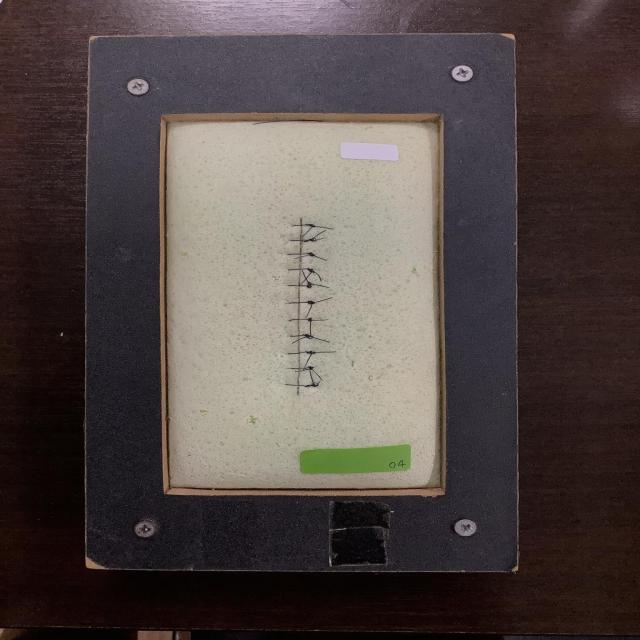knot: (302, 381, 321, 389), (300, 332, 316, 341), (301, 236, 319, 244), (305, 266, 317, 275), (303, 349, 318, 356), (303, 222, 318, 229), (304, 280, 314, 290), (304, 251, 318, 258), (305, 299, 318, 306), (306, 364, 316, 372), (305, 316, 315, 323)
leftover: (299, 270, 313, 285), (290, 335, 310, 345), (302, 352, 313, 370), (311, 229, 327, 241), (300, 268, 311, 285), (300, 225, 314, 238), (304, 301, 314, 319), (310, 368, 323, 381), (313, 296, 333, 303), (311, 336, 331, 343), (308, 369, 316, 386), (309, 283, 330, 289), (293, 367, 313, 373), (313, 225, 335, 230), (312, 254, 327, 261), (293, 254, 313, 259), (313, 271, 322, 282), (310, 318, 329, 321), (309, 319, 312, 337), (313, 351, 337, 353), (315, 237, 325, 241), (317, 380, 321, 385)
stitch: (282, 383, 319, 387), (287, 268, 316, 273), (283, 351, 316, 355), (285, 252, 315, 256), (285, 334, 314, 338), (289, 238, 317, 242), (286, 366, 313, 370), (287, 318, 313, 322), (287, 283, 312, 287), (291, 224, 316, 228), (287, 301, 316, 304)
wound: (296, 218, 303, 396)
